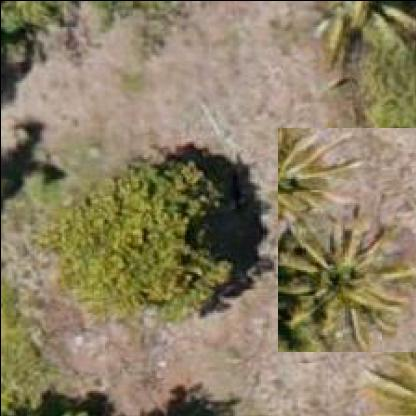coconut tree: (277, 126, 415, 352)
